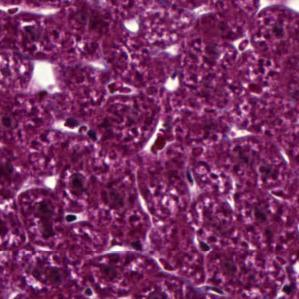inflammation: (55, 113, 102, 141), (56, 113, 89, 140), (64, 209, 87, 228)
